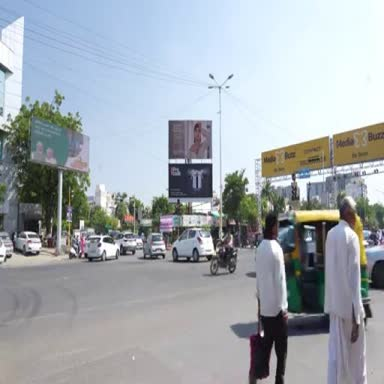Car: (172, 229, 215, 262), (87, 235, 119, 261), (366, 246, 383, 289), (15, 232, 41, 256), (143, 233, 166, 259), (116, 233, 136, 254), (0, 232, 14, 258), (0, 239, 6, 263), (84, 236, 90, 258), (363, 231, 370, 248), (136, 236, 143, 249)
